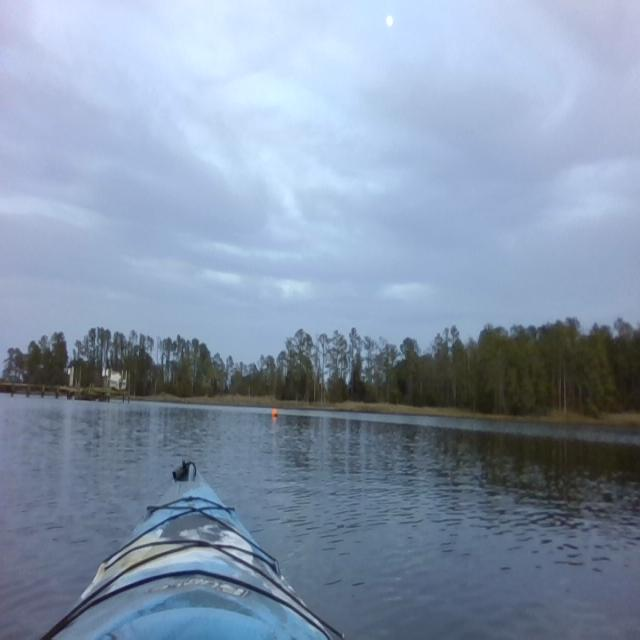Buoy: (271, 406, 279, 420)
